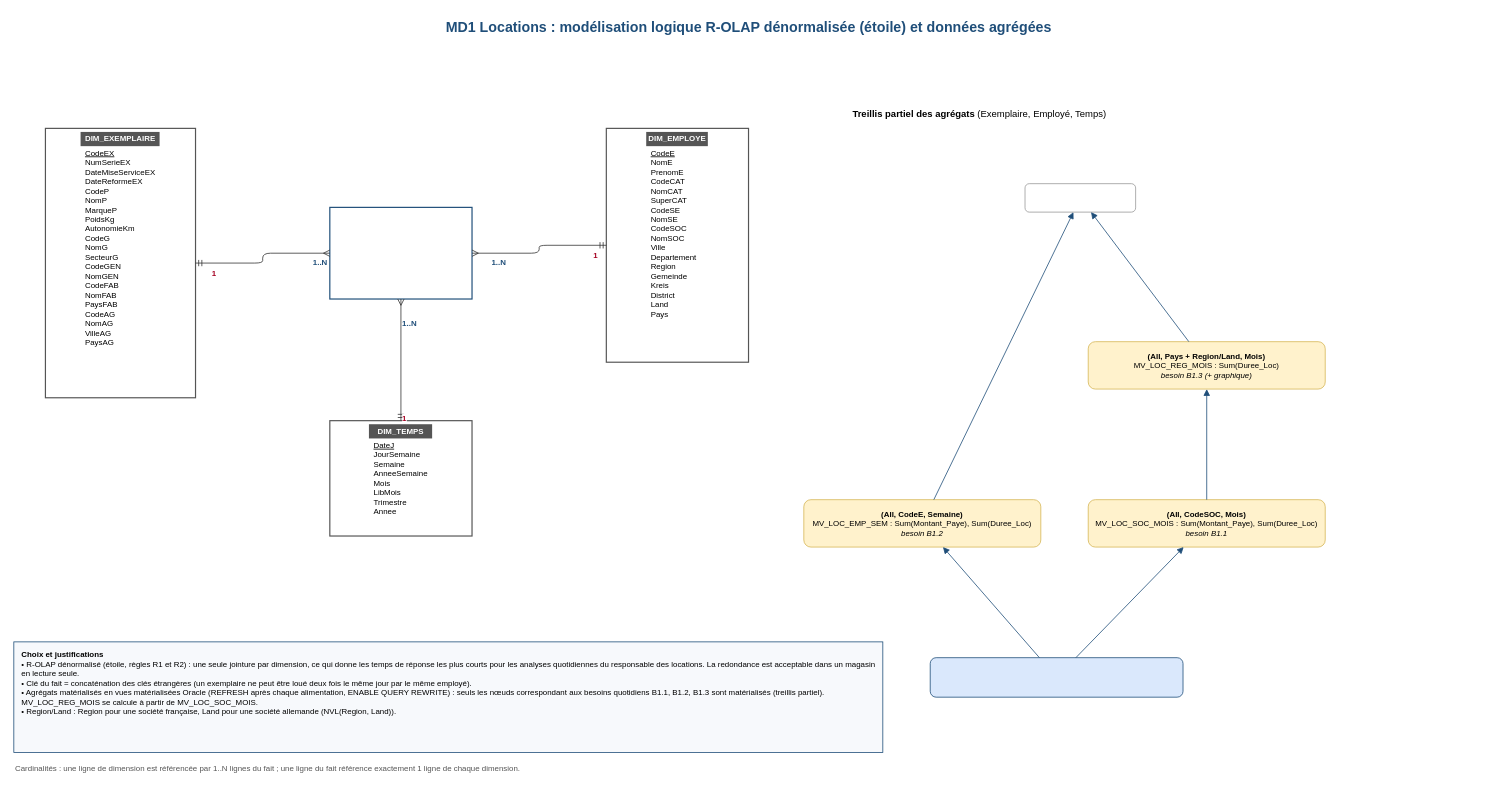
Some shapes in this 1497 by 789 pixel diagram are drawn without their labels. The box of each missing label's shape, as (x1, y1, x2, y2) in pixels:
(All, All, All): (1024, 183, 1136, 212)
(CodeEX, CodeE, DateJ) données détaillées : FAIT_LOCATION: (929, 657, 1183, 697)
FAIT_LOCATION CodeEX# CodeE# DateJ# Duree_Loc Montant_Public Montant_Paye: (329, 206, 472, 299)
